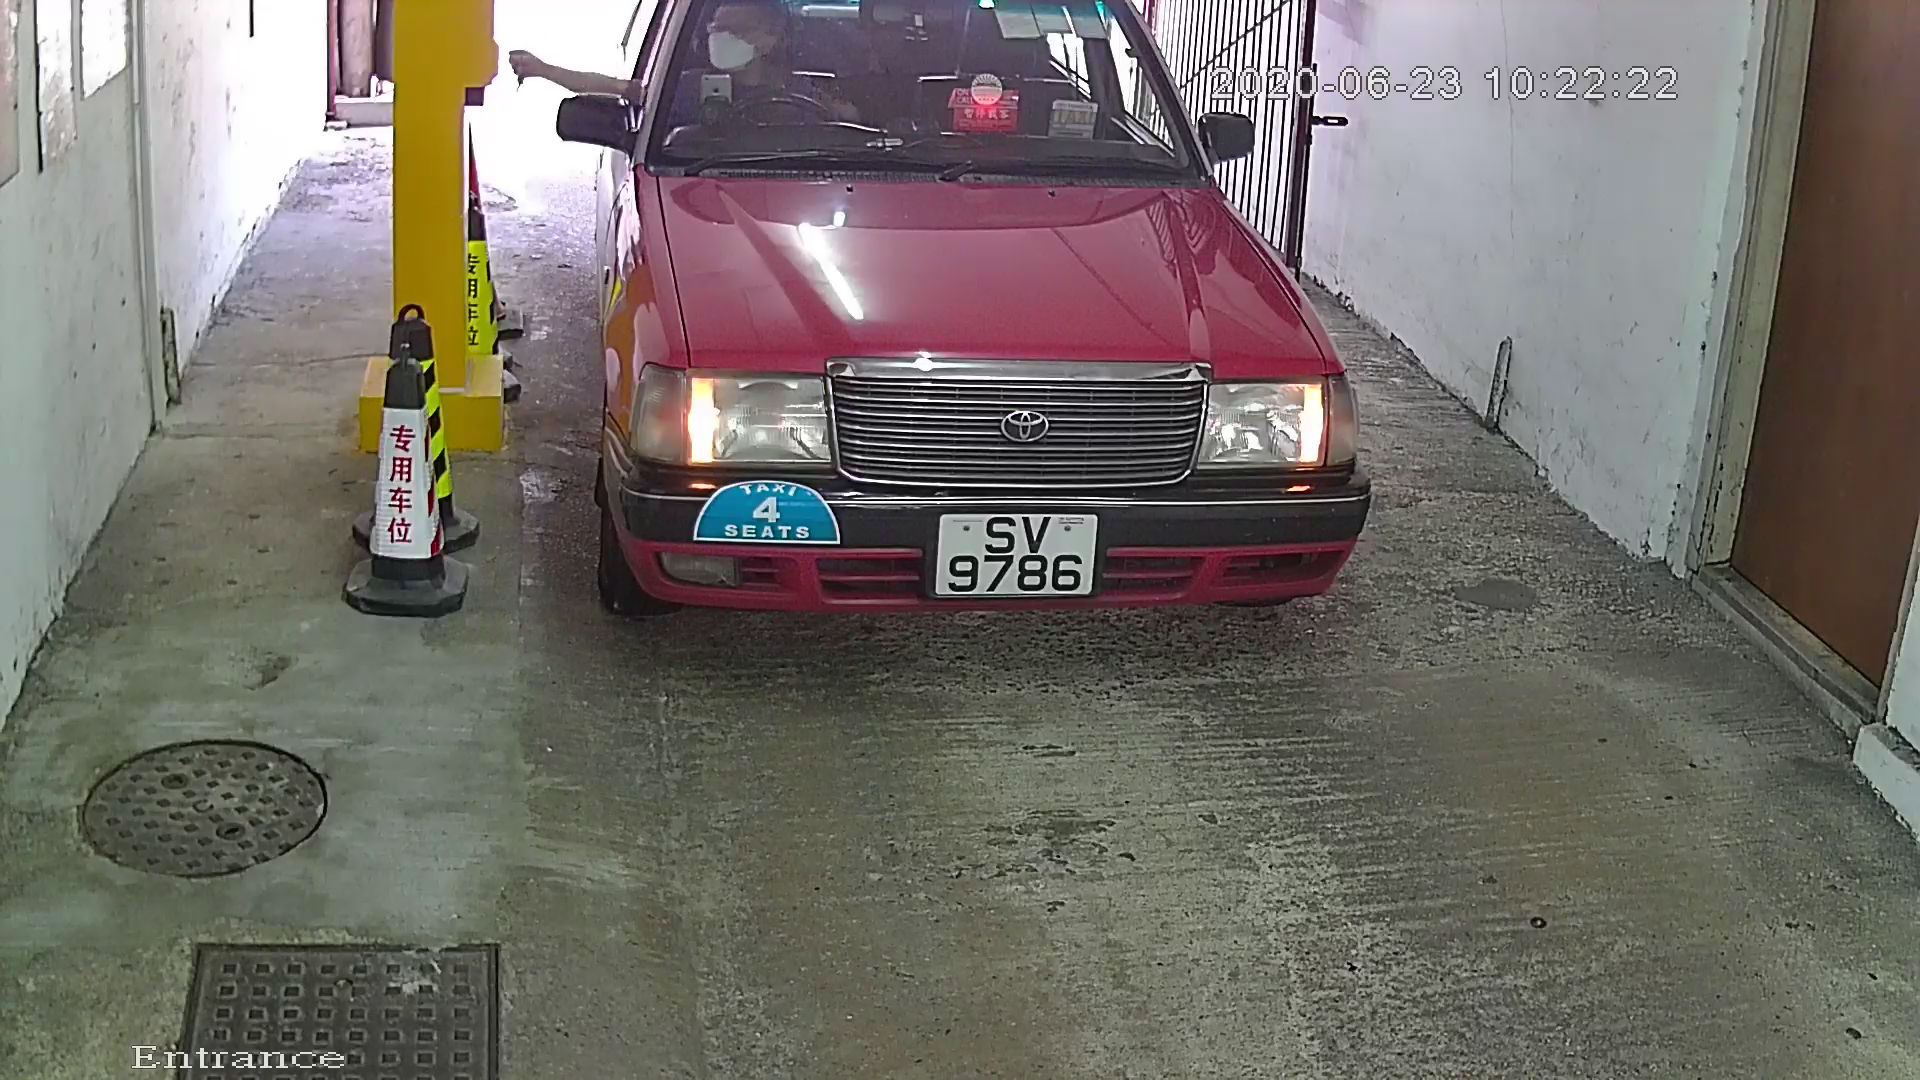taxi: (542, 3, 1466, 659)
taxi_mark: (671, 433, 872, 574)
